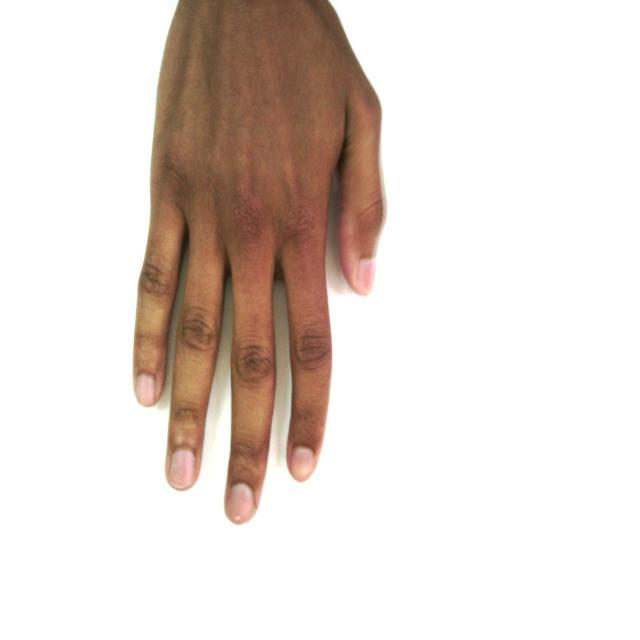Fingernail: (170, 450, 194, 488), (229, 484, 254, 520), (292, 447, 314, 478), (137, 375, 155, 405), (359, 258, 375, 291)
